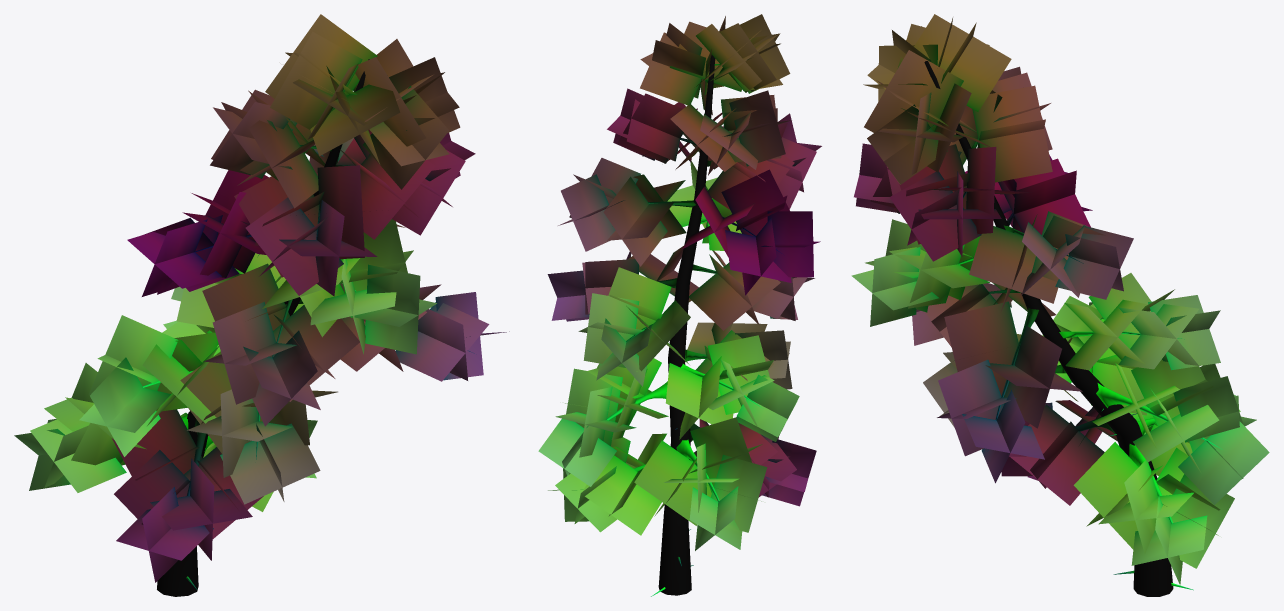
File: URP_P7_Tree_5_LOD_2.fbx
3 renders of one model, left to right at view 1: azimuth 30°, elevation 25°; view 2: azimuth 150°, elevation 25°; view 3: azimuth 270°, elevation 25°, orthographic. The views are drawn at different scales.
Parts seen in each view (by area): view 1: Tree_5_LOD_2; view 2: Tree_5_LOD_2; view 3: Tree_5_LOD_2.
Boxes of the visible parts, x1,y1,x2,y2 form: Tree_5_LOD_2: [14, 14, 509, 596]; Tree_5_LOD_2: [538, 14, 821, 596]; Tree_5_LOD_2: [851, 14, 1269, 596].
Bounding box in the file's own units: 291 × 489 × 315.
